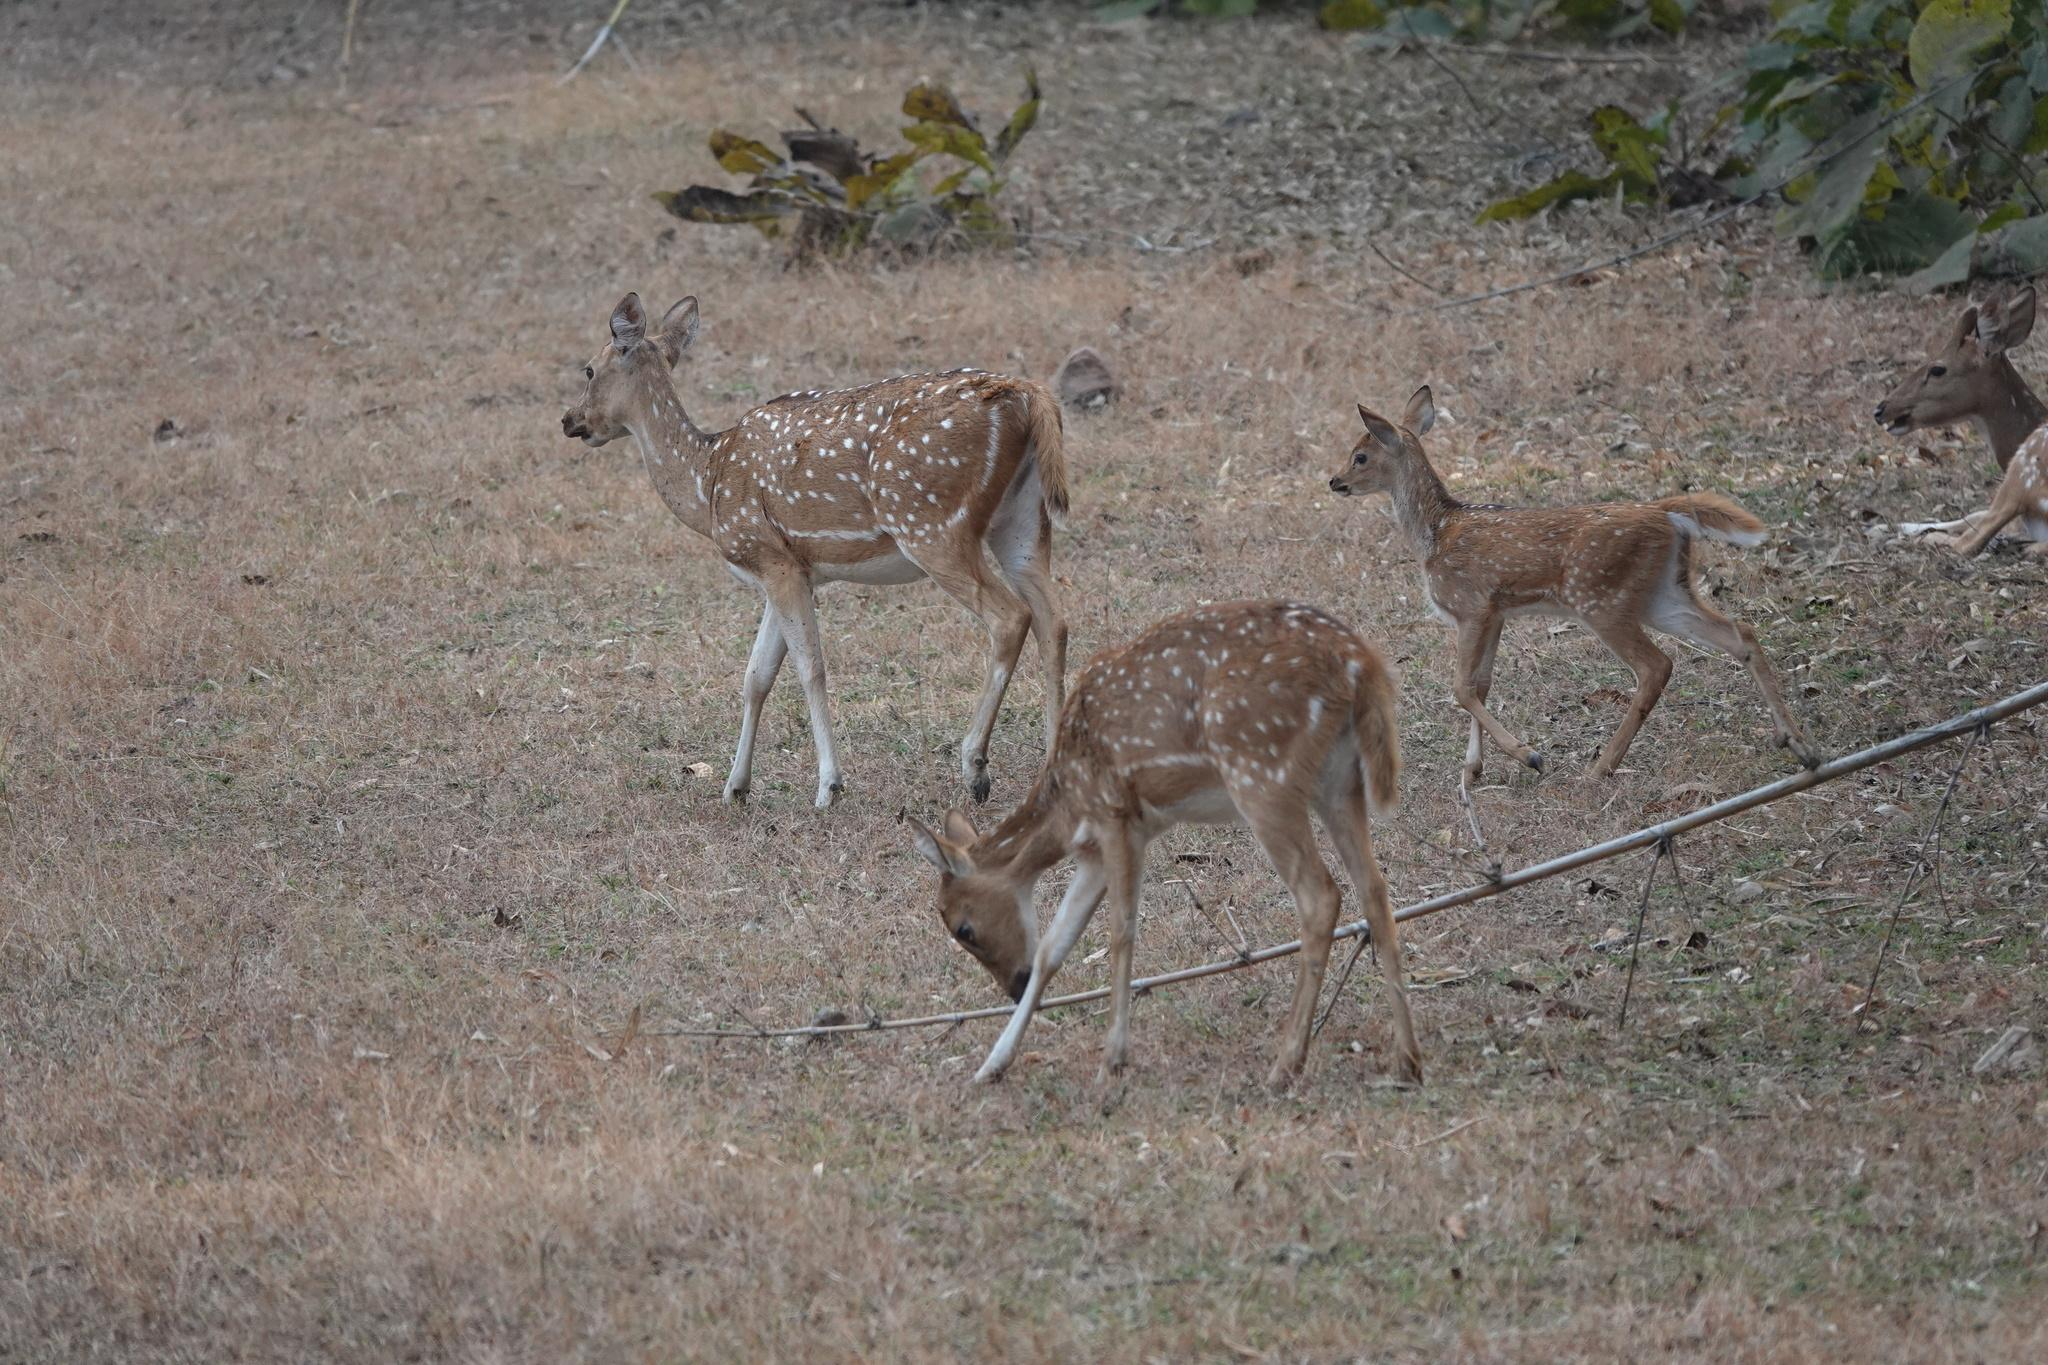Deer: (560, 294, 1070, 807), (911, 599, 1421, 1085), (1329, 385, 1823, 801)
